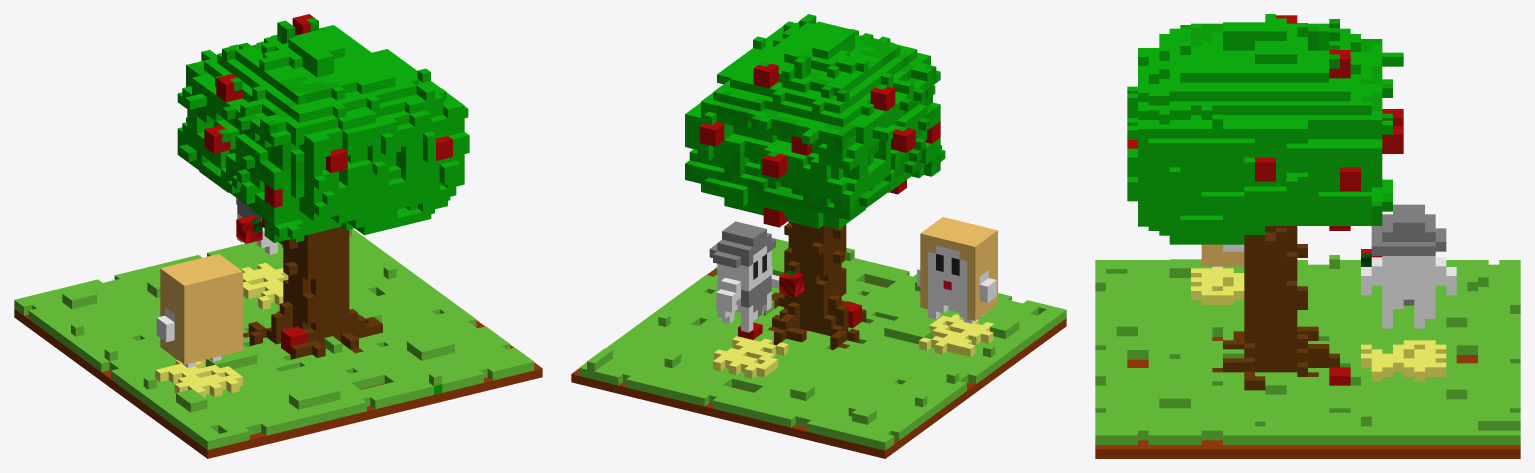
Rendered from adem&havva.fbx.
3 views of the same model, side by side, from view 1: azimuth 30°, elevation 25°; view 2: azimuth 150°, elevation 25°; view 3: azimuth 270°, elevation 25° (orthographic). The views are drawn at different scales.
Visible parts, largest first — view 1: figTree, ground, havva, havvaShadow, ademShadow, apple, adem; view 2: figTree, ground, havva, adem, ademShadow, havvaShadow, apple; view 3: ground, figTree, adem, ademShadow, havvaShadow, havva.
Boxes of the visible parts, bbox=[...] form: figTree: bbox=[177, 14, 469, 359]; ground: bbox=[14, 228, 542, 458]; havva: bbox=[156, 254, 242, 367]; havvaShadow: bbox=[155, 359, 242, 398]; ademShadow: bbox=[240, 262, 288, 309]; apple: bbox=[236, 215, 262, 243]; adem: bbox=[236, 198, 283, 254]; figTree: bbox=[685, 14, 945, 349]; ground: bbox=[571, 239, 1066, 458]; havva: bbox=[917, 217, 997, 323]; adem: bbox=[709, 221, 779, 332]; ademShadow: bbox=[713, 336, 788, 378]; havvaShadow: bbox=[919, 314, 993, 356]; apple: bbox=[779, 270, 804, 296]; ground: bbox=[1095, 255, 1520, 458]; figTree: bbox=[1127, 14, 1403, 390]; adem: bbox=[1361, 204, 1456, 328]; ademShadow: bbox=[1361, 340, 1446, 381]; havvaShadow: bbox=[1191, 267, 1244, 304]; havva: bbox=[1201, 244, 1244, 266].
Size of the model in its own units: 400 by 360 by 400.
Materials: 6 (6 with a texture image).
